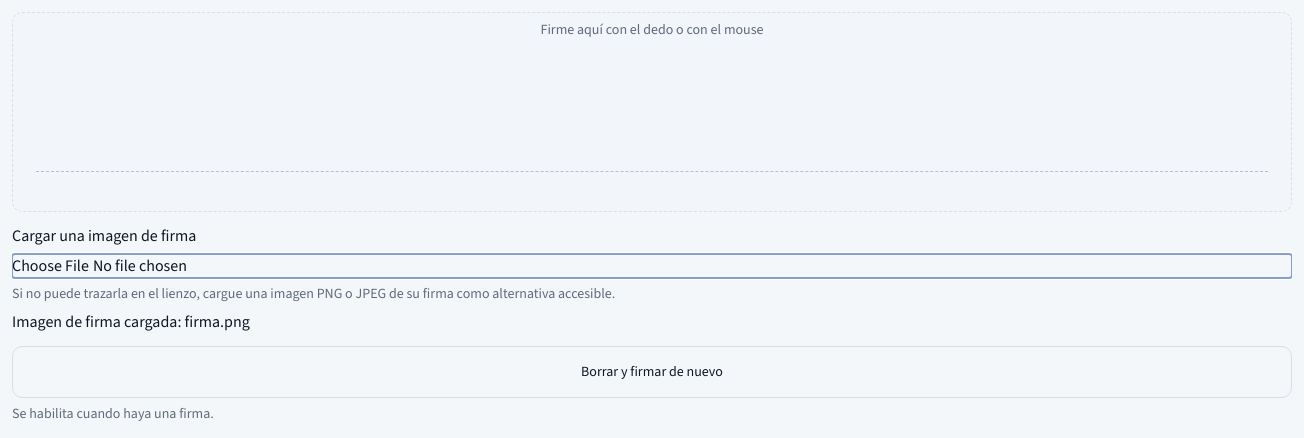
Scenario: CanvasFirma › accepts an accessible PNG/JPEG upload as the signature alternative and clears its selection
The image size is (1304, 438).
Earlier steps of the test are not shown.
Expected: the text "Imagen de firma cargada: firma.png" is shown, [12,311,250,332]
Click the button "Borrar y firmar de nuevo": {"x": 652, "y": 372} [12,346,1292,398]
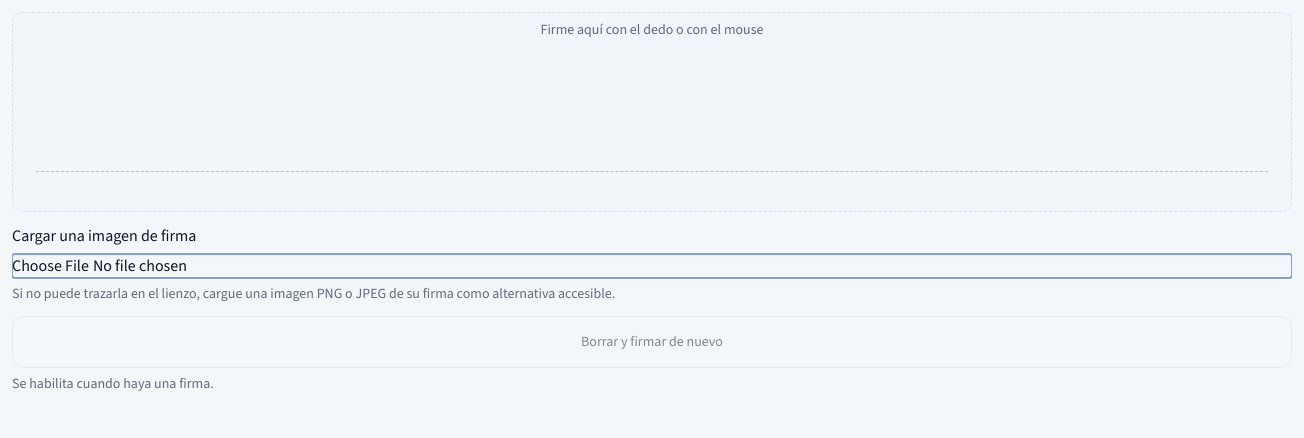
Expected: the file field labelled "Cargar una imagen de firma" is empty, [12,254,1292,278]
Result: the text "Imagen de firma cargada: firma.png" is gone
